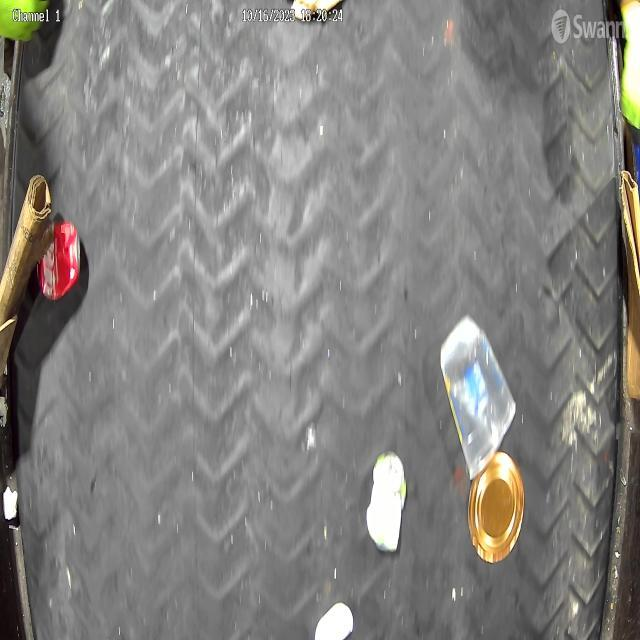can: (468, 452, 524, 563), (366, 452, 408, 552), (36, 222, 82, 300)
